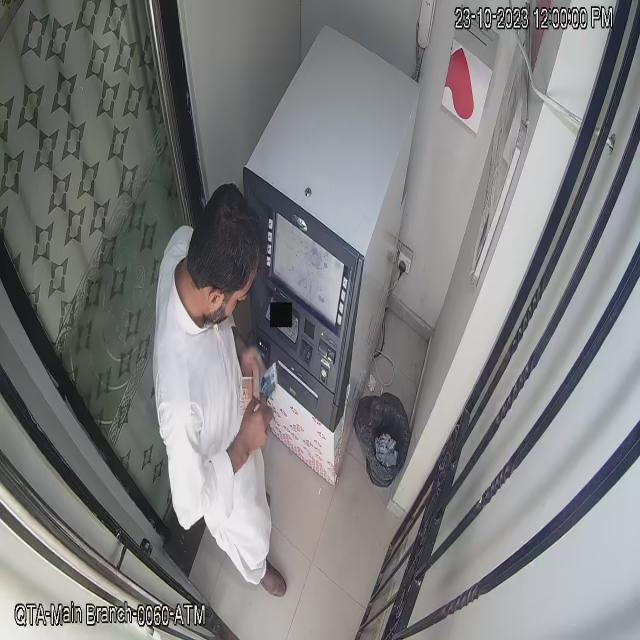note: (237, 357, 280, 413)
